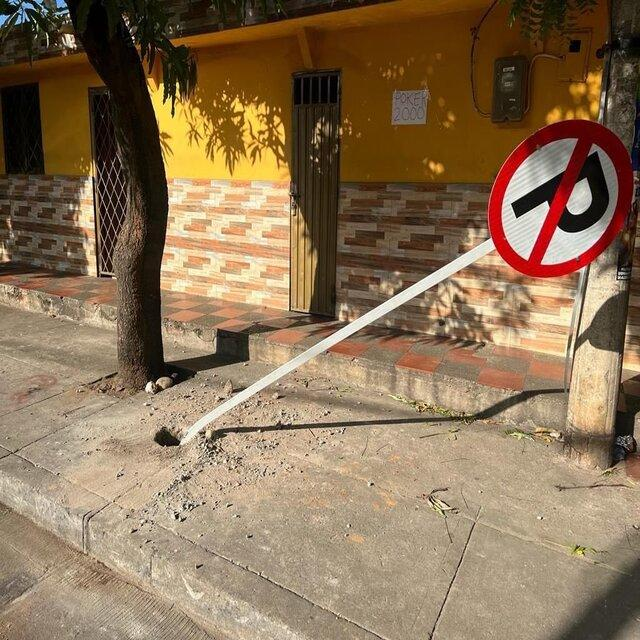Inclined Pole: (177, 123, 635, 444)
